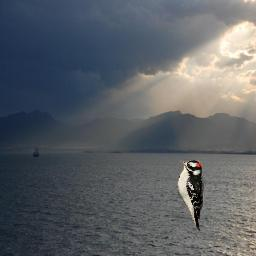Woodpecker: (176, 160, 204, 231)
